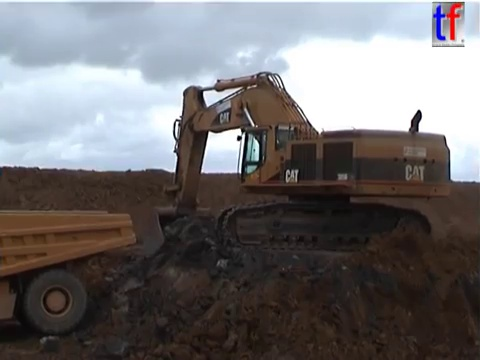excavator: (138, 69, 453, 263)
truck: (1, 207, 137, 335)
